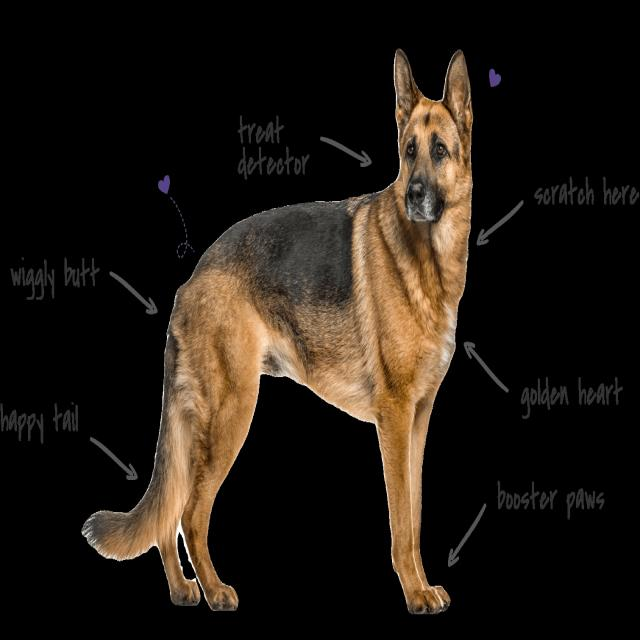GERMAN_SHEPHERD: (77, 39, 497, 618)
